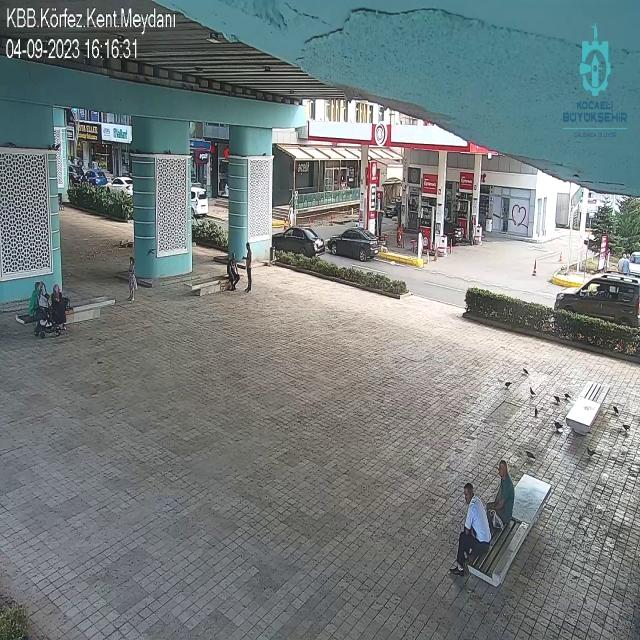Car: (556, 274, 640, 320), (323, 222, 383, 261), (271, 220, 329, 259), (100, 170, 139, 201), (612, 247, 640, 276), (84, 163, 104, 191)
Van: (186, 181, 212, 218)
